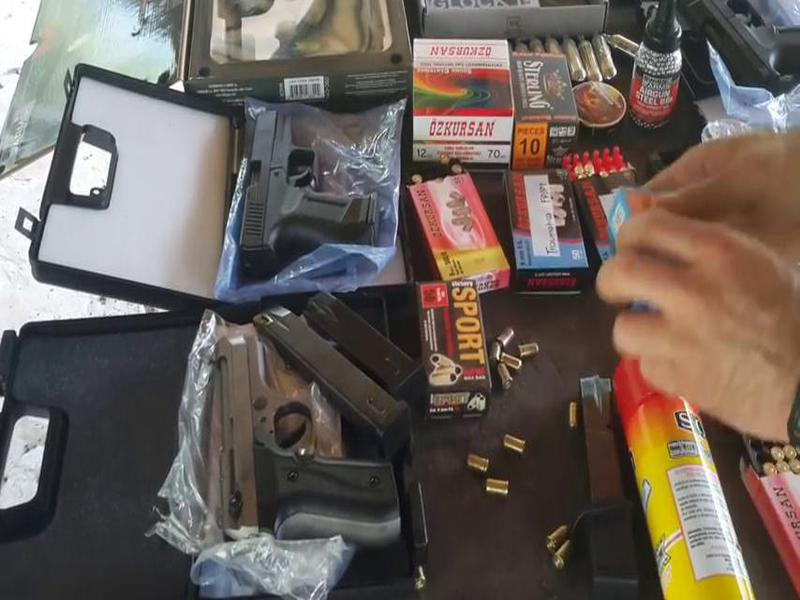Pistola: (207, 319, 414, 564), (244, 84, 374, 275)
